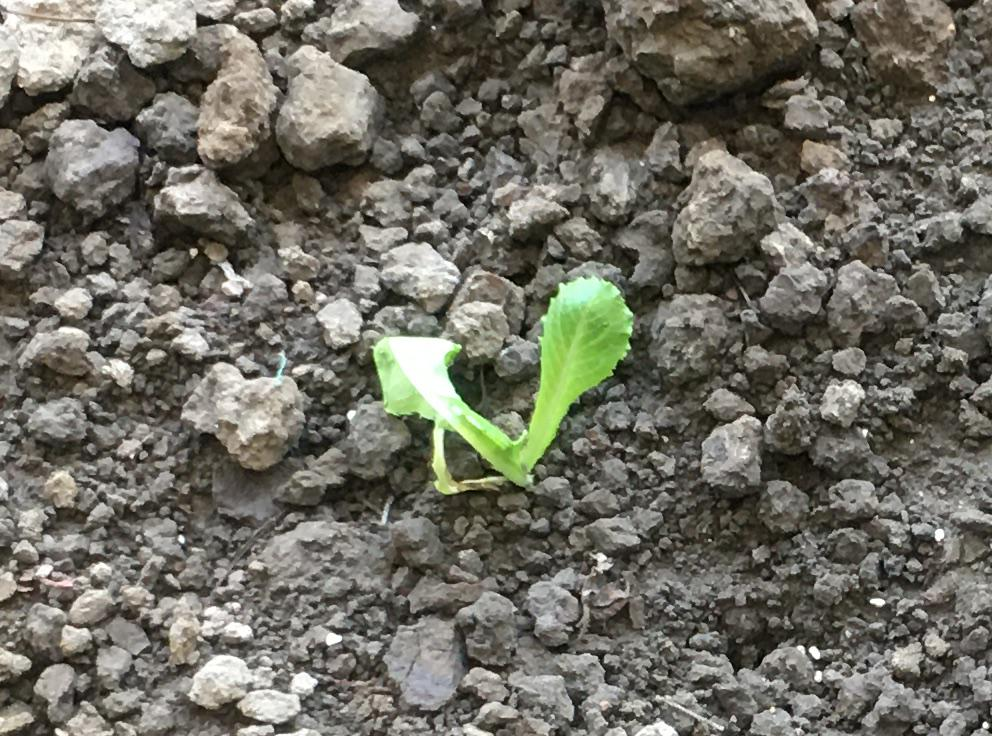block: (280, 45, 382, 173), (179, 364, 300, 470), (672, 148, 775, 272), (194, 24, 275, 167), (42, 118, 139, 217), (152, 165, 253, 242)
